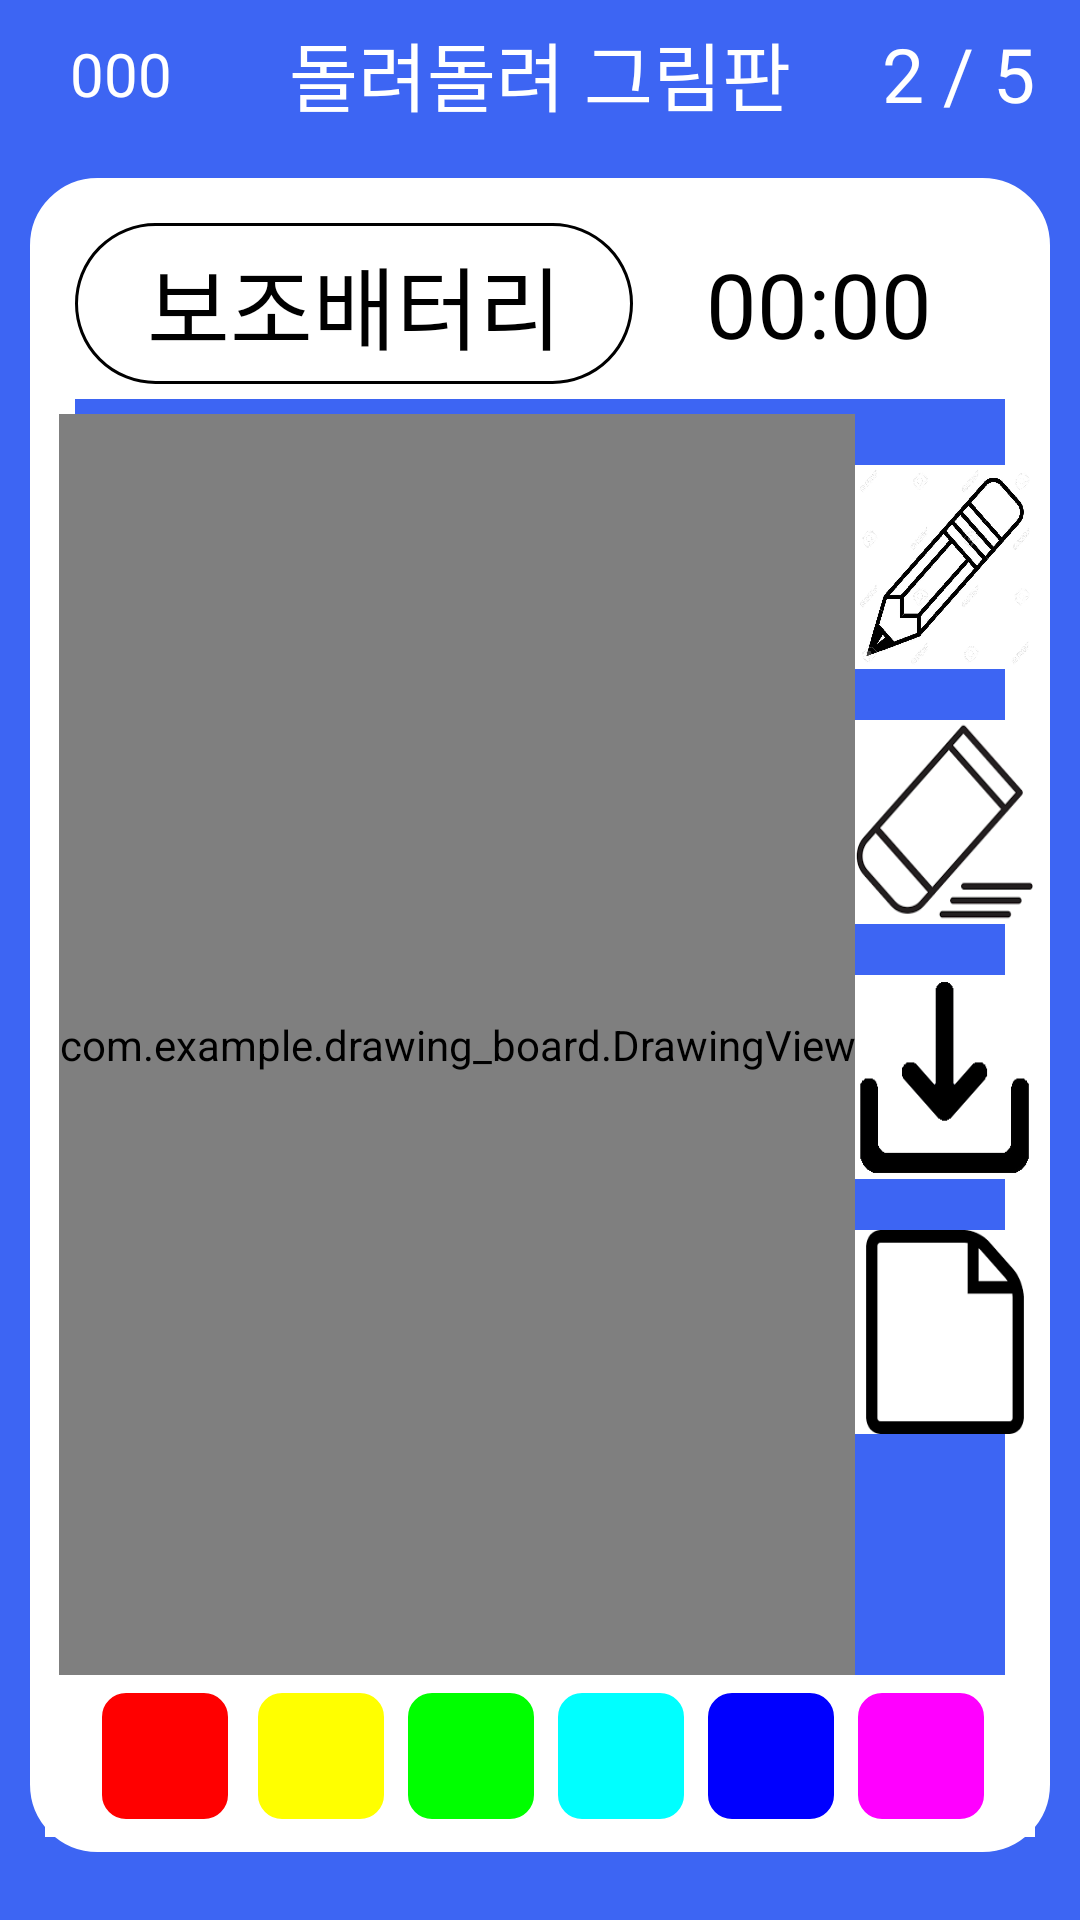

Point at icon controls on the screen. Image size 1080x1920, points as point (x, y).
clear: point (945, 1332)
eraser: point (944, 822)
pancel: point (944, 566)
save: point (944, 1077)
